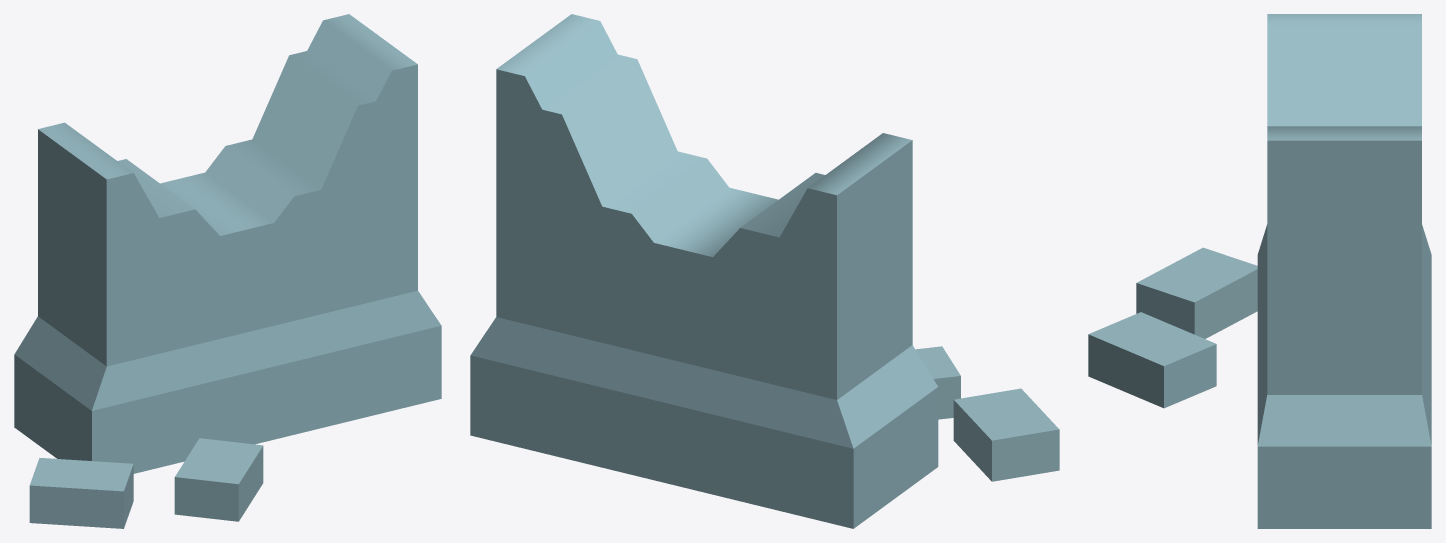
File: gravestoneBroken.dae
3 views of the same model, side by side, from view 1: azimuth 30°, elevation 25°; view 2: azimuth 150°, elevation 25°; view 3: azimuth 270°, elevation 25° (orthographic). The views are drawn at different scales.
Parts seen in each view (by area): view 1: gravestoneBroken; view 2: gravestoneBroken; view 3: gravestoneBroken.
Part boxes in pixels (x1,y1,x2,y2): gravestoneBroken: (14, 14, 441, 528); gravestoneBroken: (470, 14, 1059, 528); gravestoneBroken: (1088, 14, 1431, 528).
Bounding box in the file's own units: 0.4864 × 0.3581 × 0.2949.
